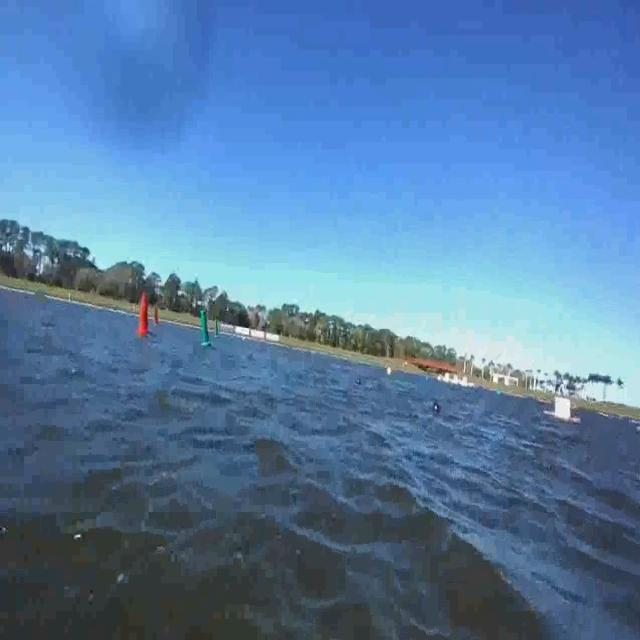black-buoy: (435, 402, 440, 414), (357, 378, 363, 384)
green-column-buoy: (200, 311, 213, 349), (215, 319, 220, 337)
red-column-buoy: (138, 292, 150, 336), (153, 306, 160, 327)
yellow-buoy: (386, 365, 394, 377)
